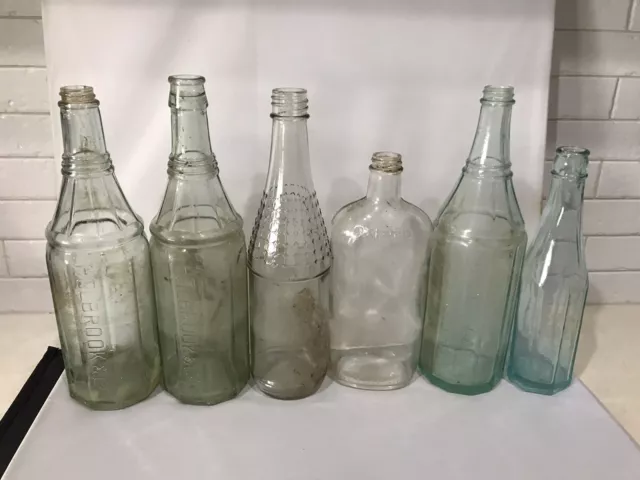glass_bottle: (30, 64, 611, 410)
